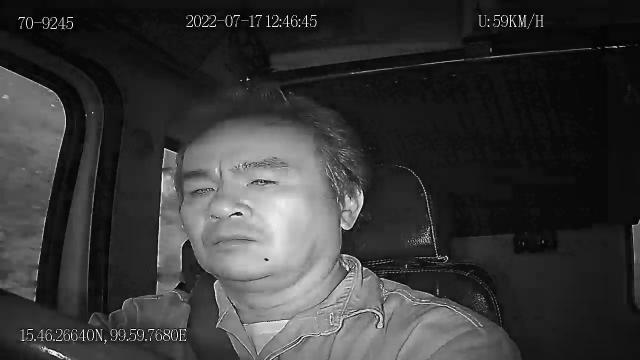SafeDriving: (238, 165, 288, 194), (181, 173, 221, 206)
Seatbelt: (184, 274, 242, 360)
